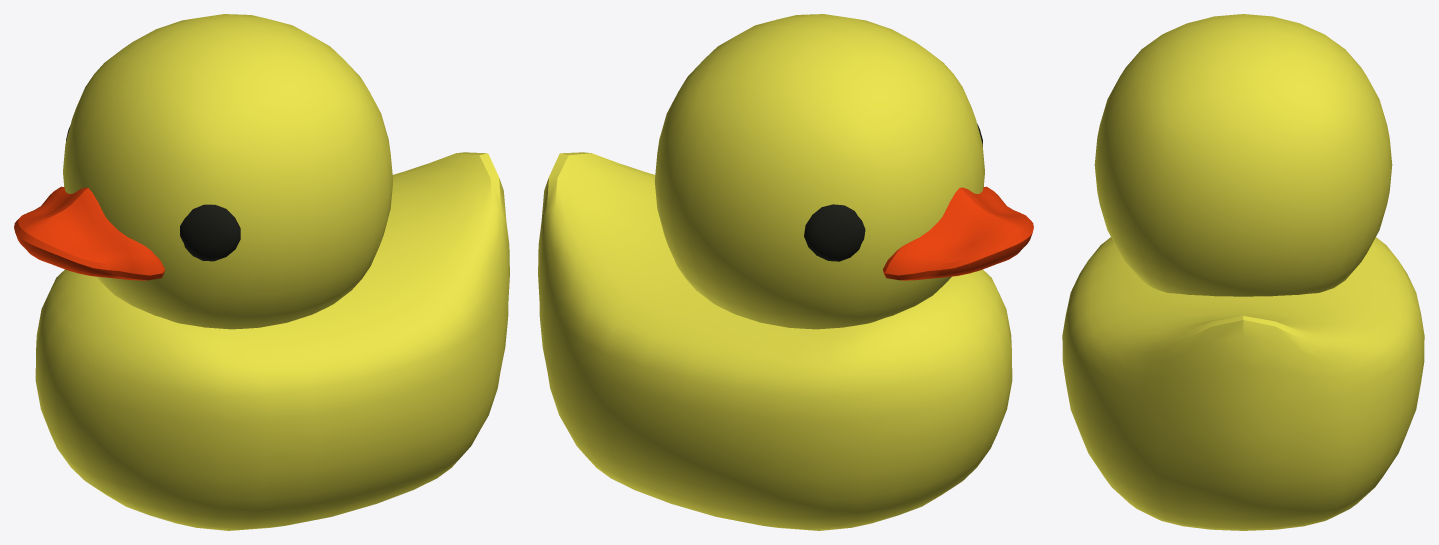
Rendered from summer-sale.glb.
3 renders of one model, left to right at view 1: azimuth 30°, elevation 25°; view 2: azimuth 150°, elevation 25°; view 3: azimuth 270°, elevation 25°, orthographic. The views are drawn at different scales.
Parts seen in each view (by area): view 1: duckBody, duckHead, duckBeak, duckEye001; view 2: duckBody, duckHead, duckBeak, duckEye; view 3: duckBody, duckHead.
Boxes of the visible parts, x1,y1,x2,y2 form: duckBody: (35,152,509,530); duckHead: (63,14,393,329); duckBeak: (14,186,164,280); duckEye001: (180,204,240,261); duckBody: (538,152,1012,530); duckHead: (654,14,984,329); duckBeak: (883,186,1033,280); duckEye: (804,204,865,261); duckBody: (1062,237,1424,530); duckHead: (1094,14,1392,296).
Bounding box in the file's own units: 3.74 × 3.56 × 2.67.
